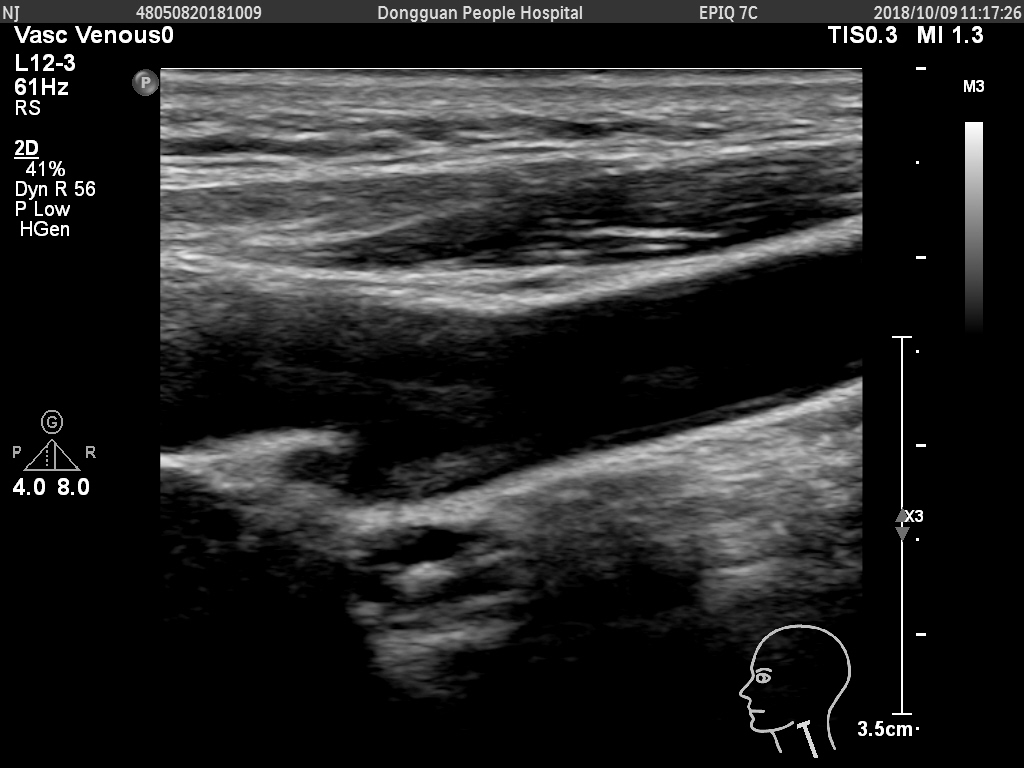blood vessel: (189, 242, 597, 536)
plaque: (370, 450, 528, 518)
pseudomorphism: (199, 285, 525, 361)
